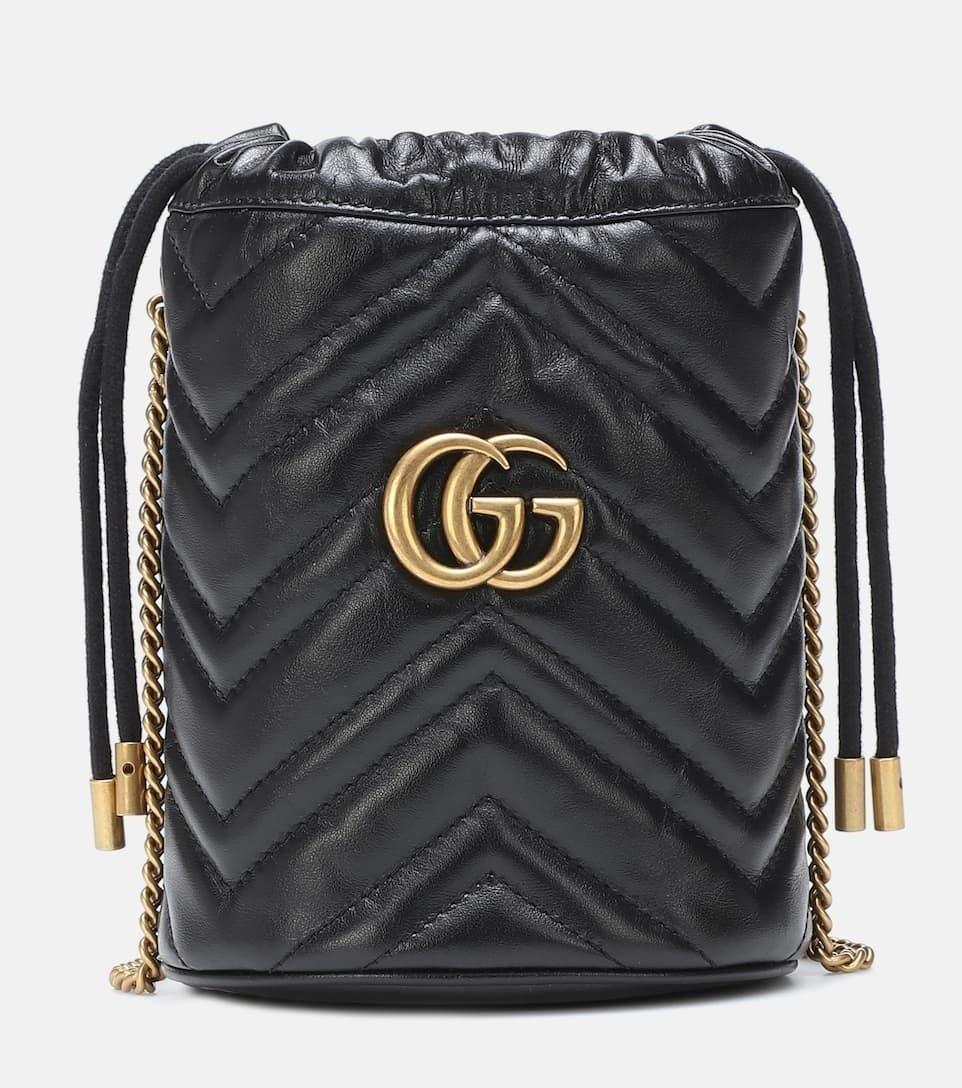GUCCI: (383, 433, 586, 589)
